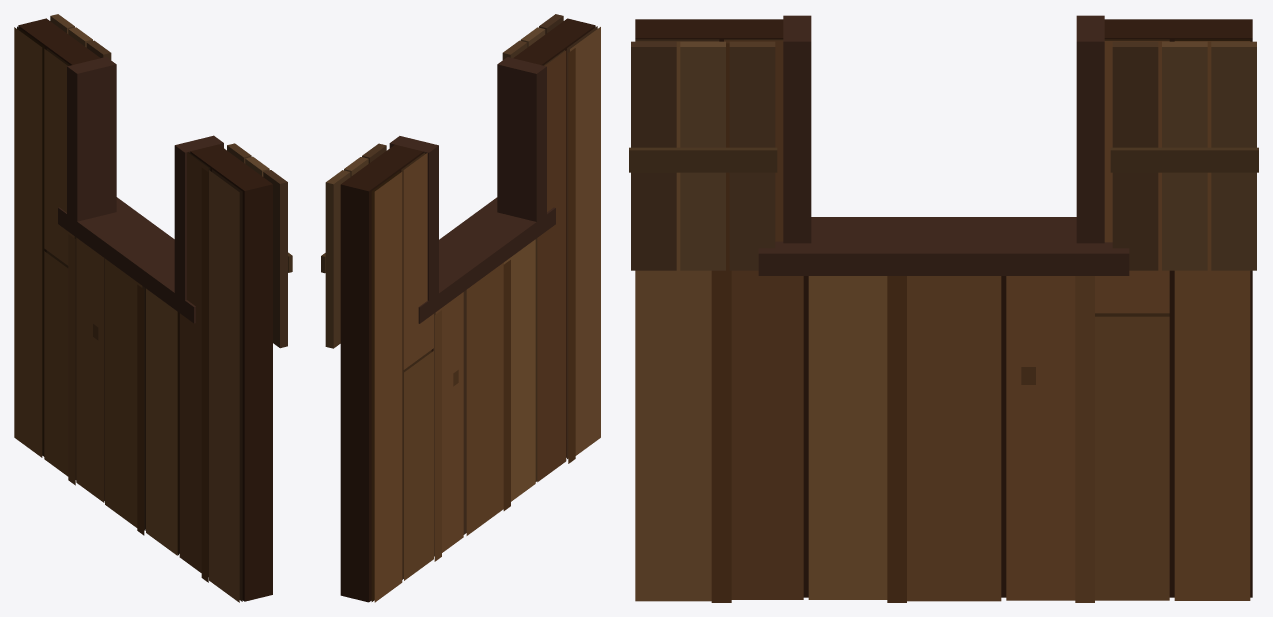
Rendered from wall-timber-window-low.glb.
3 renders of one model, left to right at view 1: azimuth 30°, elevation 25°; view 2: azimuth 150°, elevation 25°; view 3: azimuth 270°, elevation 25°, orthographic. The views are drawn at different scales.
Visible parts, largest first — view 1: wall-timber-window-low; view 2: wall-timber-window-low; view 3: wall-timber-window-low.
Part boxes in pixels (bbox=[...]): wall-timber-window-low: bbox=[14, 14, 292, 602]; wall-timber-window-low: bbox=[321, 14, 600, 602]; wall-timber-window-low: bbox=[629, 15, 1258, 602].
Bounding box in the file's own units: 0.146 × 1 × 1.02.
